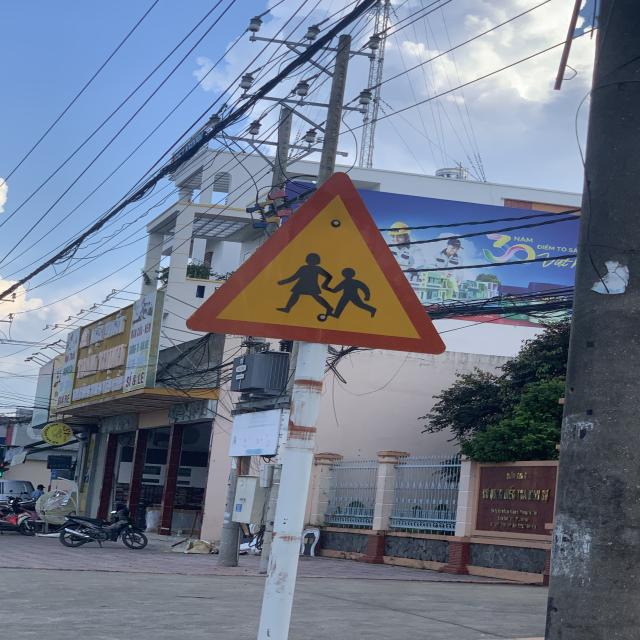Vong_Xuyen: (184, 170, 445, 355)
